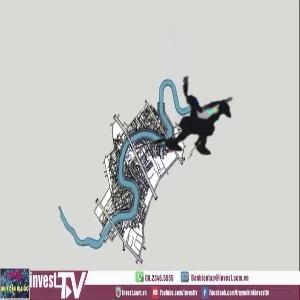drone: (118, 48, 285, 215)
